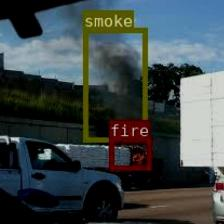fire: (109, 136, 151, 170)
smoke: (83, 27, 146, 142)
